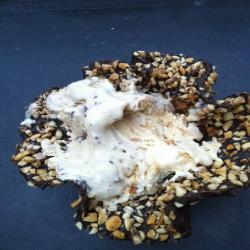icecream: (49, 79, 204, 199)
